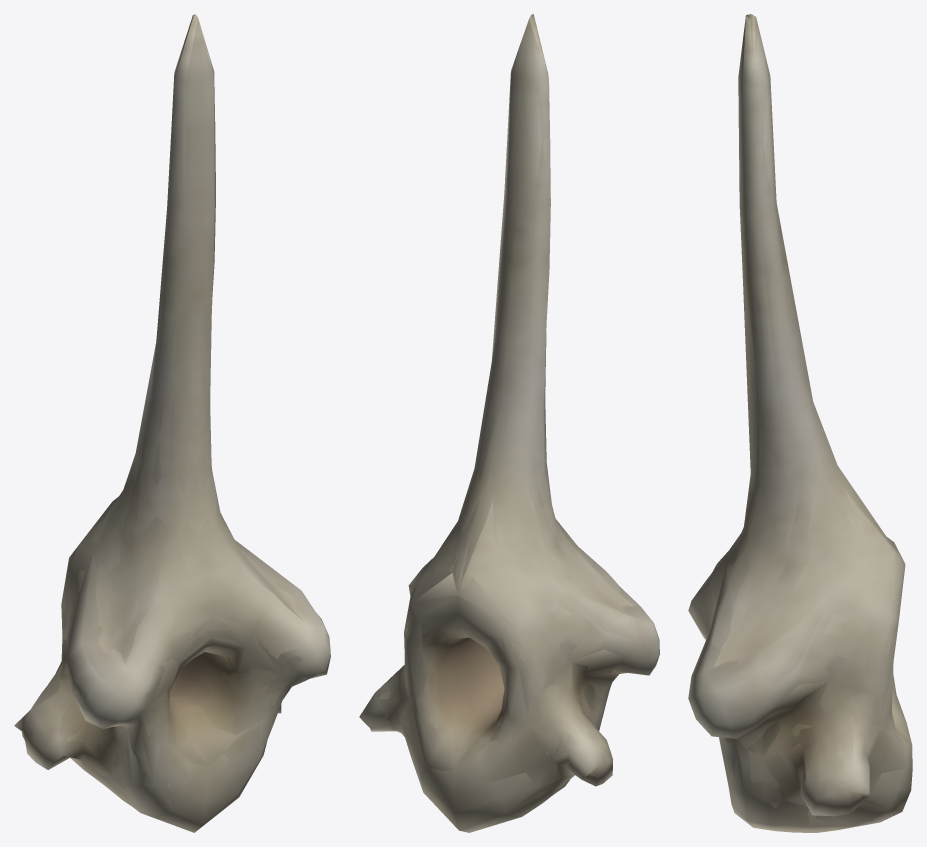
Rendered from vertebrae thoracicae 02.fbx.
The picture shows the model from 3 angles, left to right: view 1: azimuth 30°, elevation 25°; view 2: azimuth 150°, elevation 25°; view 3: azimuth 270°, elevation 25°; orthographic projection. The views are drawn at different scales.
Visible parts, largest first — view 1: vertebrae thoracicae 02, vertebrae thoracicae 02 low, vertebrae thoracicae 02 high; view 2: vertebrae thoracicae 02, vertebrae thoracicae 02 low, vertebrae thoracicae 02 high; view 3: vertebrae thoracicae 02, vertebrae thoracicae 02 low, vertebrae thoracicae 02 high.
Boxes of the visible parts, bbox=[...] form: vertebrae thoracicae 02: bbox=[14, 14, 330, 832]; vertebrae thoracicae 02 low: bbox=[21, 17, 327, 831]; vertebrae thoracicae 02 high: bbox=[22, 155, 328, 804]; vertebrae thoracicae 02: bbox=[359, 14, 659, 832]; vertebrae thoracicae 02 low: bbox=[360, 14, 655, 831]; vertebrae thoracicae 02 high: bbox=[379, 132, 655, 823]; vertebrae thoracicae 02: bbox=[688, 14, 912, 832]; vertebrae thoracicae 02 low: bbox=[690, 15, 911, 829]; vertebrae thoracicae 02 high: bbox=[695, 139, 902, 828].
Size of the model in its own units: 1.03 by 3.29 by 0.8177.
1 material, 1 textured.
